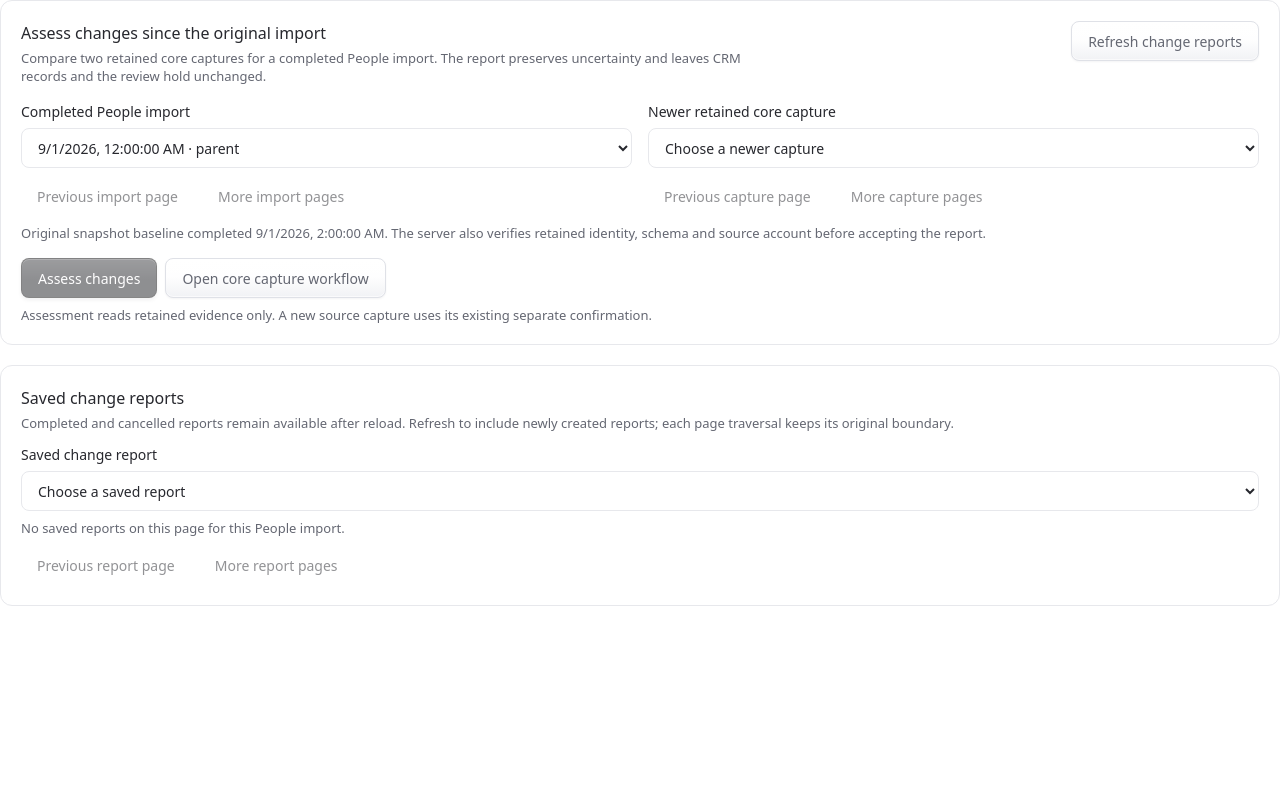
core change report workflow › qualifies the first source observation instead of the time the run was queued
The image size is (1280, 800).
Expected: the label "Newer retained core capture" is shown, 648,102 -> 836,121
Select "9/2/2026, 2:00:00 AM · Completed with gaps · overlap" in the dropdown labelled "Newer retained core capture": (954, 148) 648,128 -> 1259,168
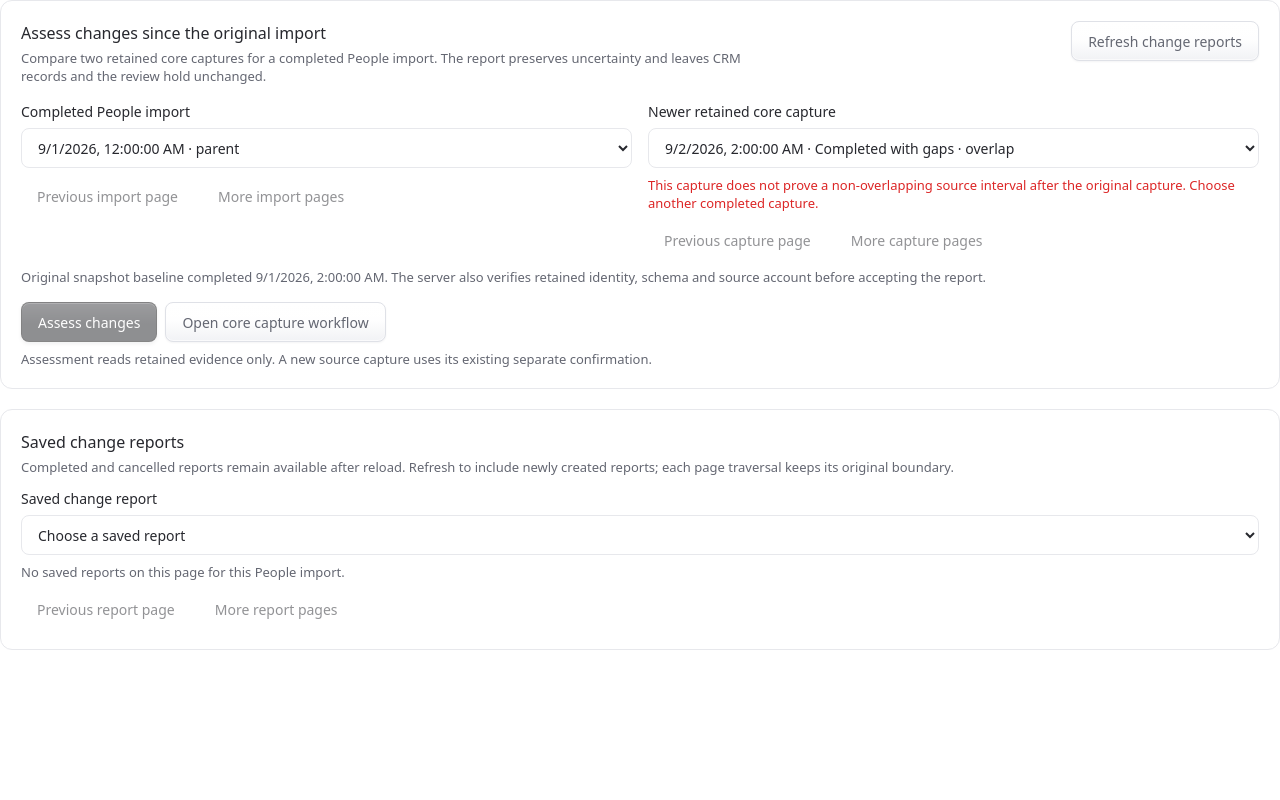
Expected: the button "Assess changes" is disabled, 21,302 -> 157,342
Click the button "Refresh change reports": (1165, 41) 1071,21 -> 1259,61
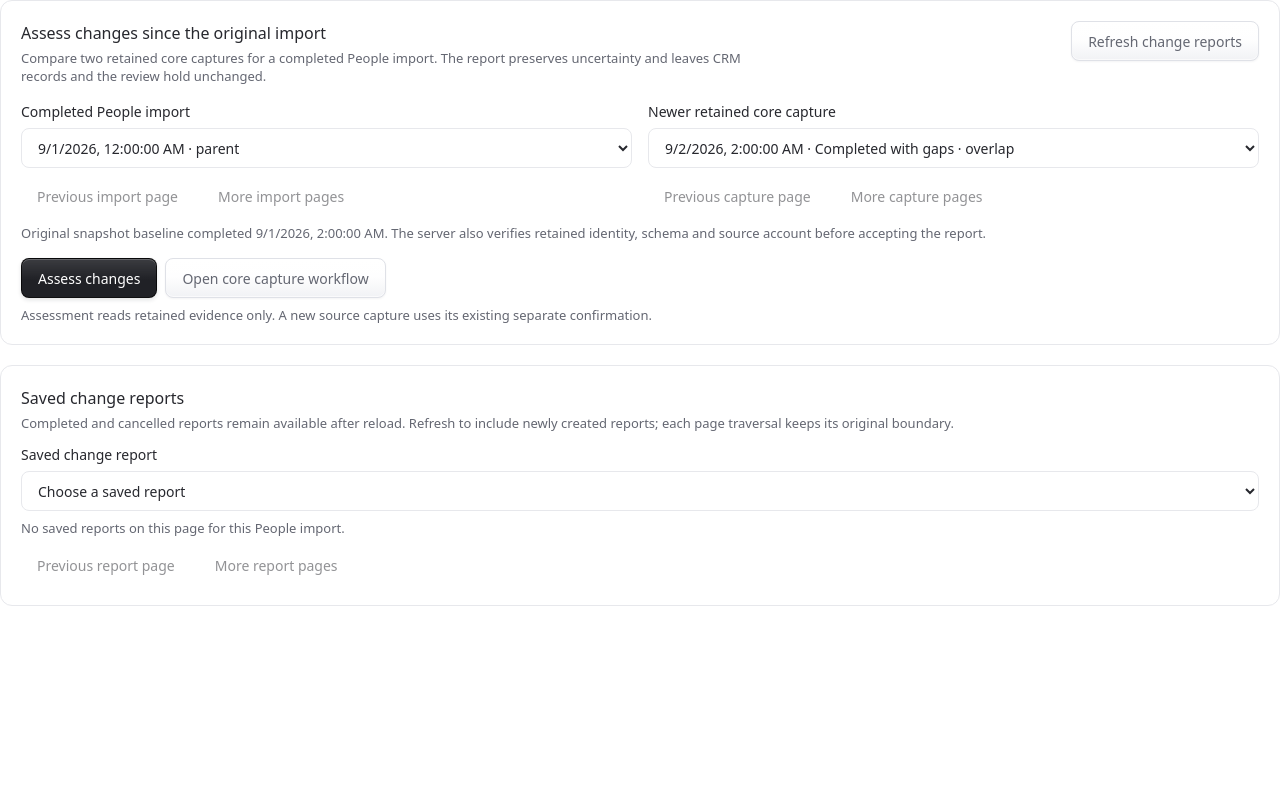
Result: the button "Assess changes" is enabled at 21,258 -> 157,298
